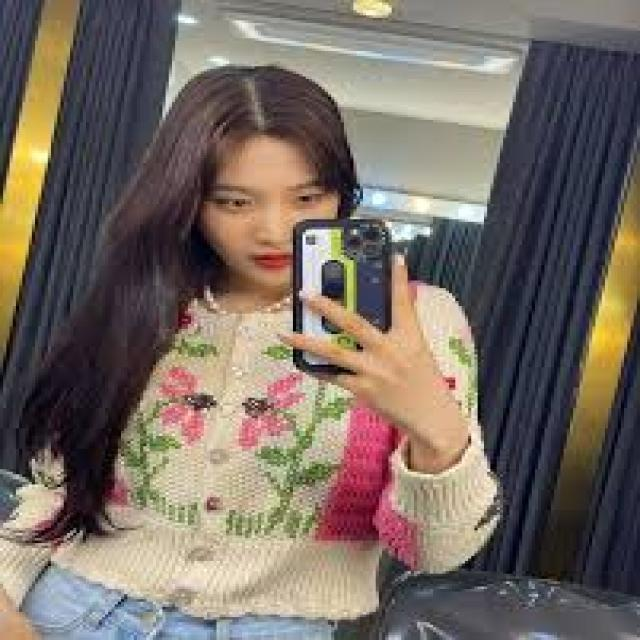Phone: (290, 217, 396, 375)
